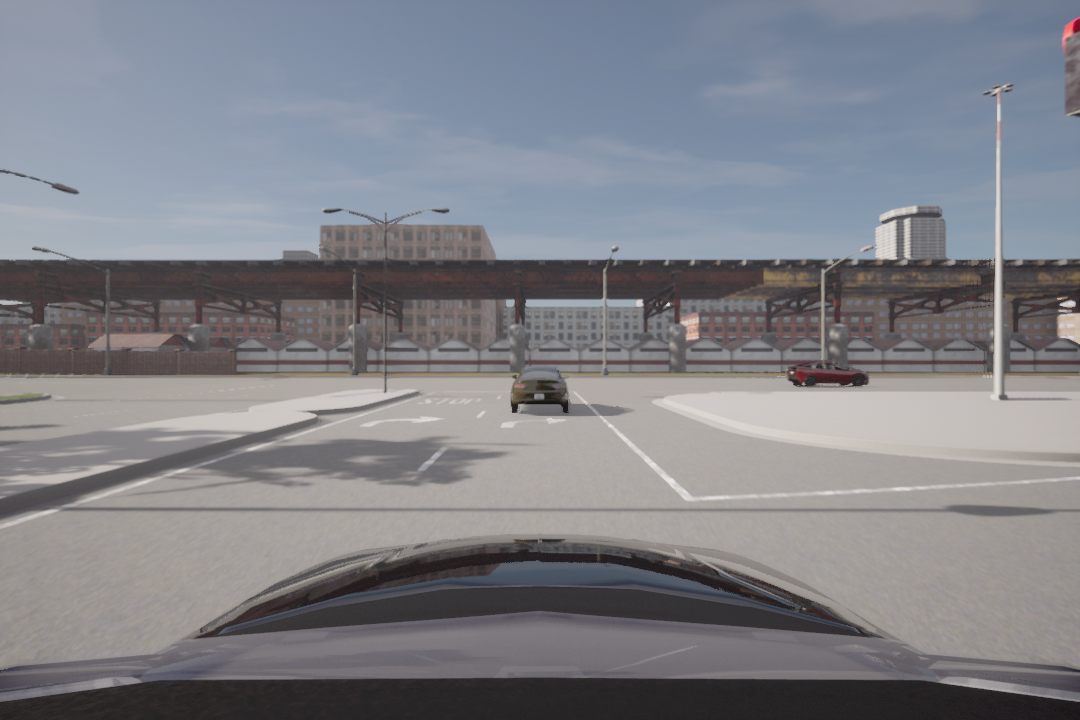RoadSign_right: (361, 413, 446, 433), (499, 414, 571, 433)
